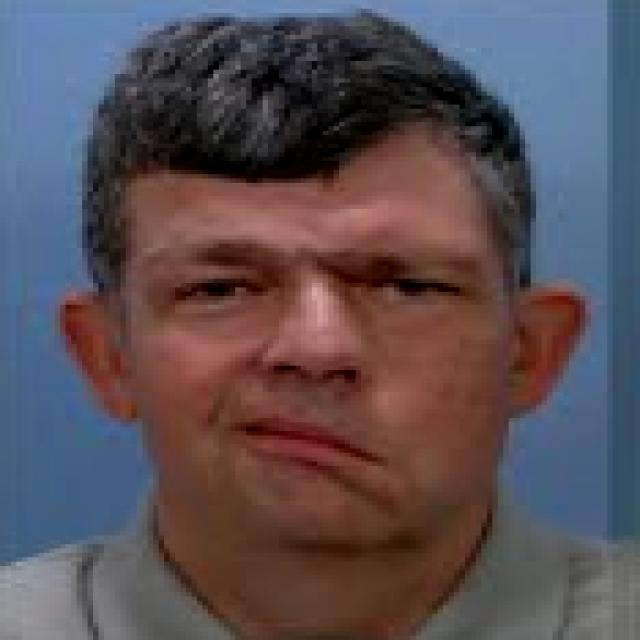stroke_face: (130, 40, 548, 542)
